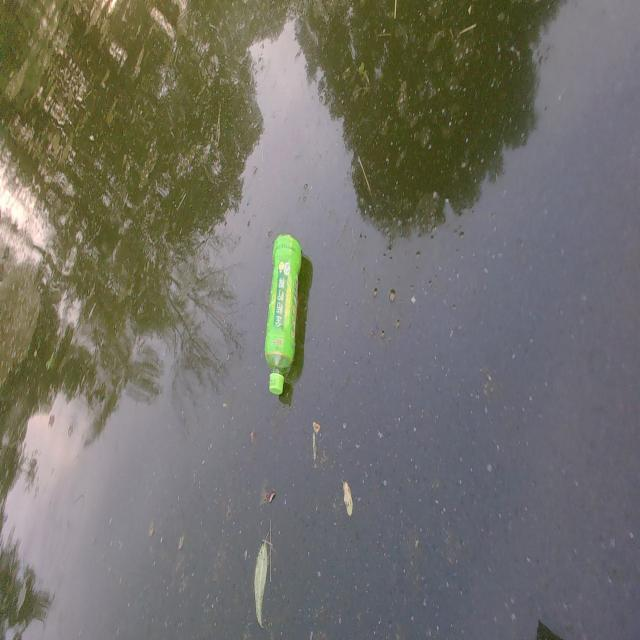bottle: (252, 229, 320, 399)
